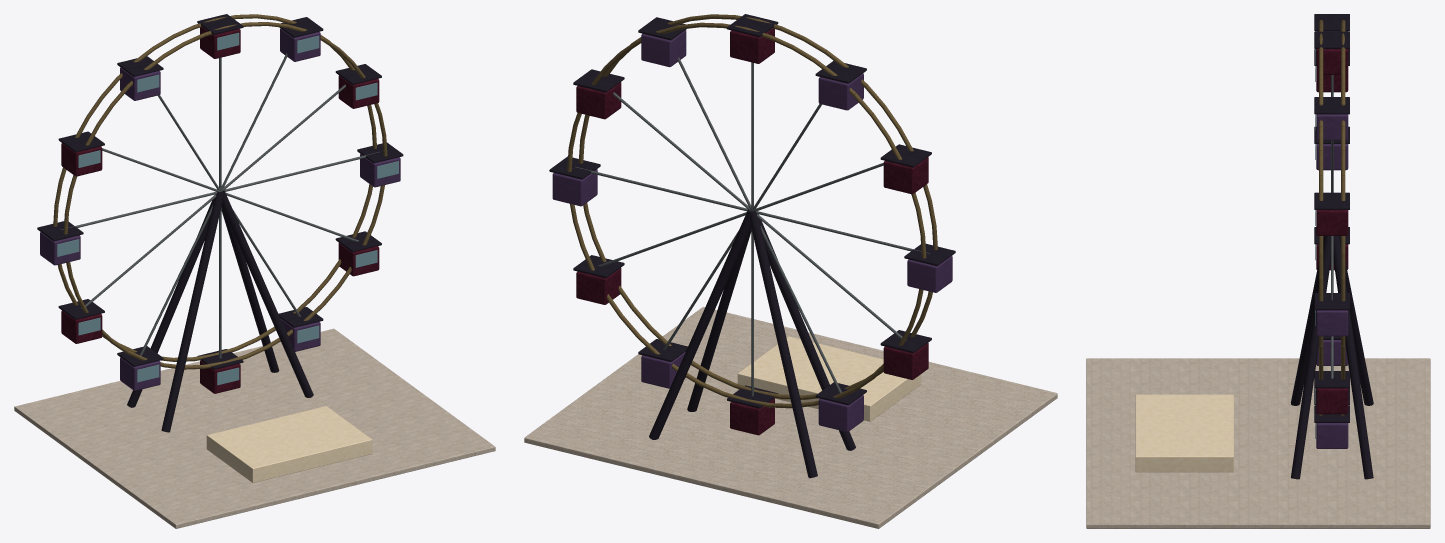
The model's file is explore3d__ferris_platform.glb.
The picture shows the model from 3 angles, left to right: view 1: azimuth 30°, elevation 25°; view 2: azimuth 150°, elevation 25°; view 3: azimuth 270°, elevation 25°; orthographic projection. The views are drawn at different scales.
Visible parts, largest first — view 1: Runtime_local_ferris_platform; view 2: Runtime_local_ferris_platform; view 3: Runtime_local_ferris_platform.
Part boxes in pixels (x1,y1,x2,y2): Runtime_local_ferris_platform: (14, 14, 495, 528); Runtime_local_ferris_platform: (524, 14, 1057, 528); Runtime_local_ferris_platform: (1086, 14, 1430, 528).
Bounding box in the file's own units: 17.5 × 18.31 × 14.
8 materials, 7 textured.
